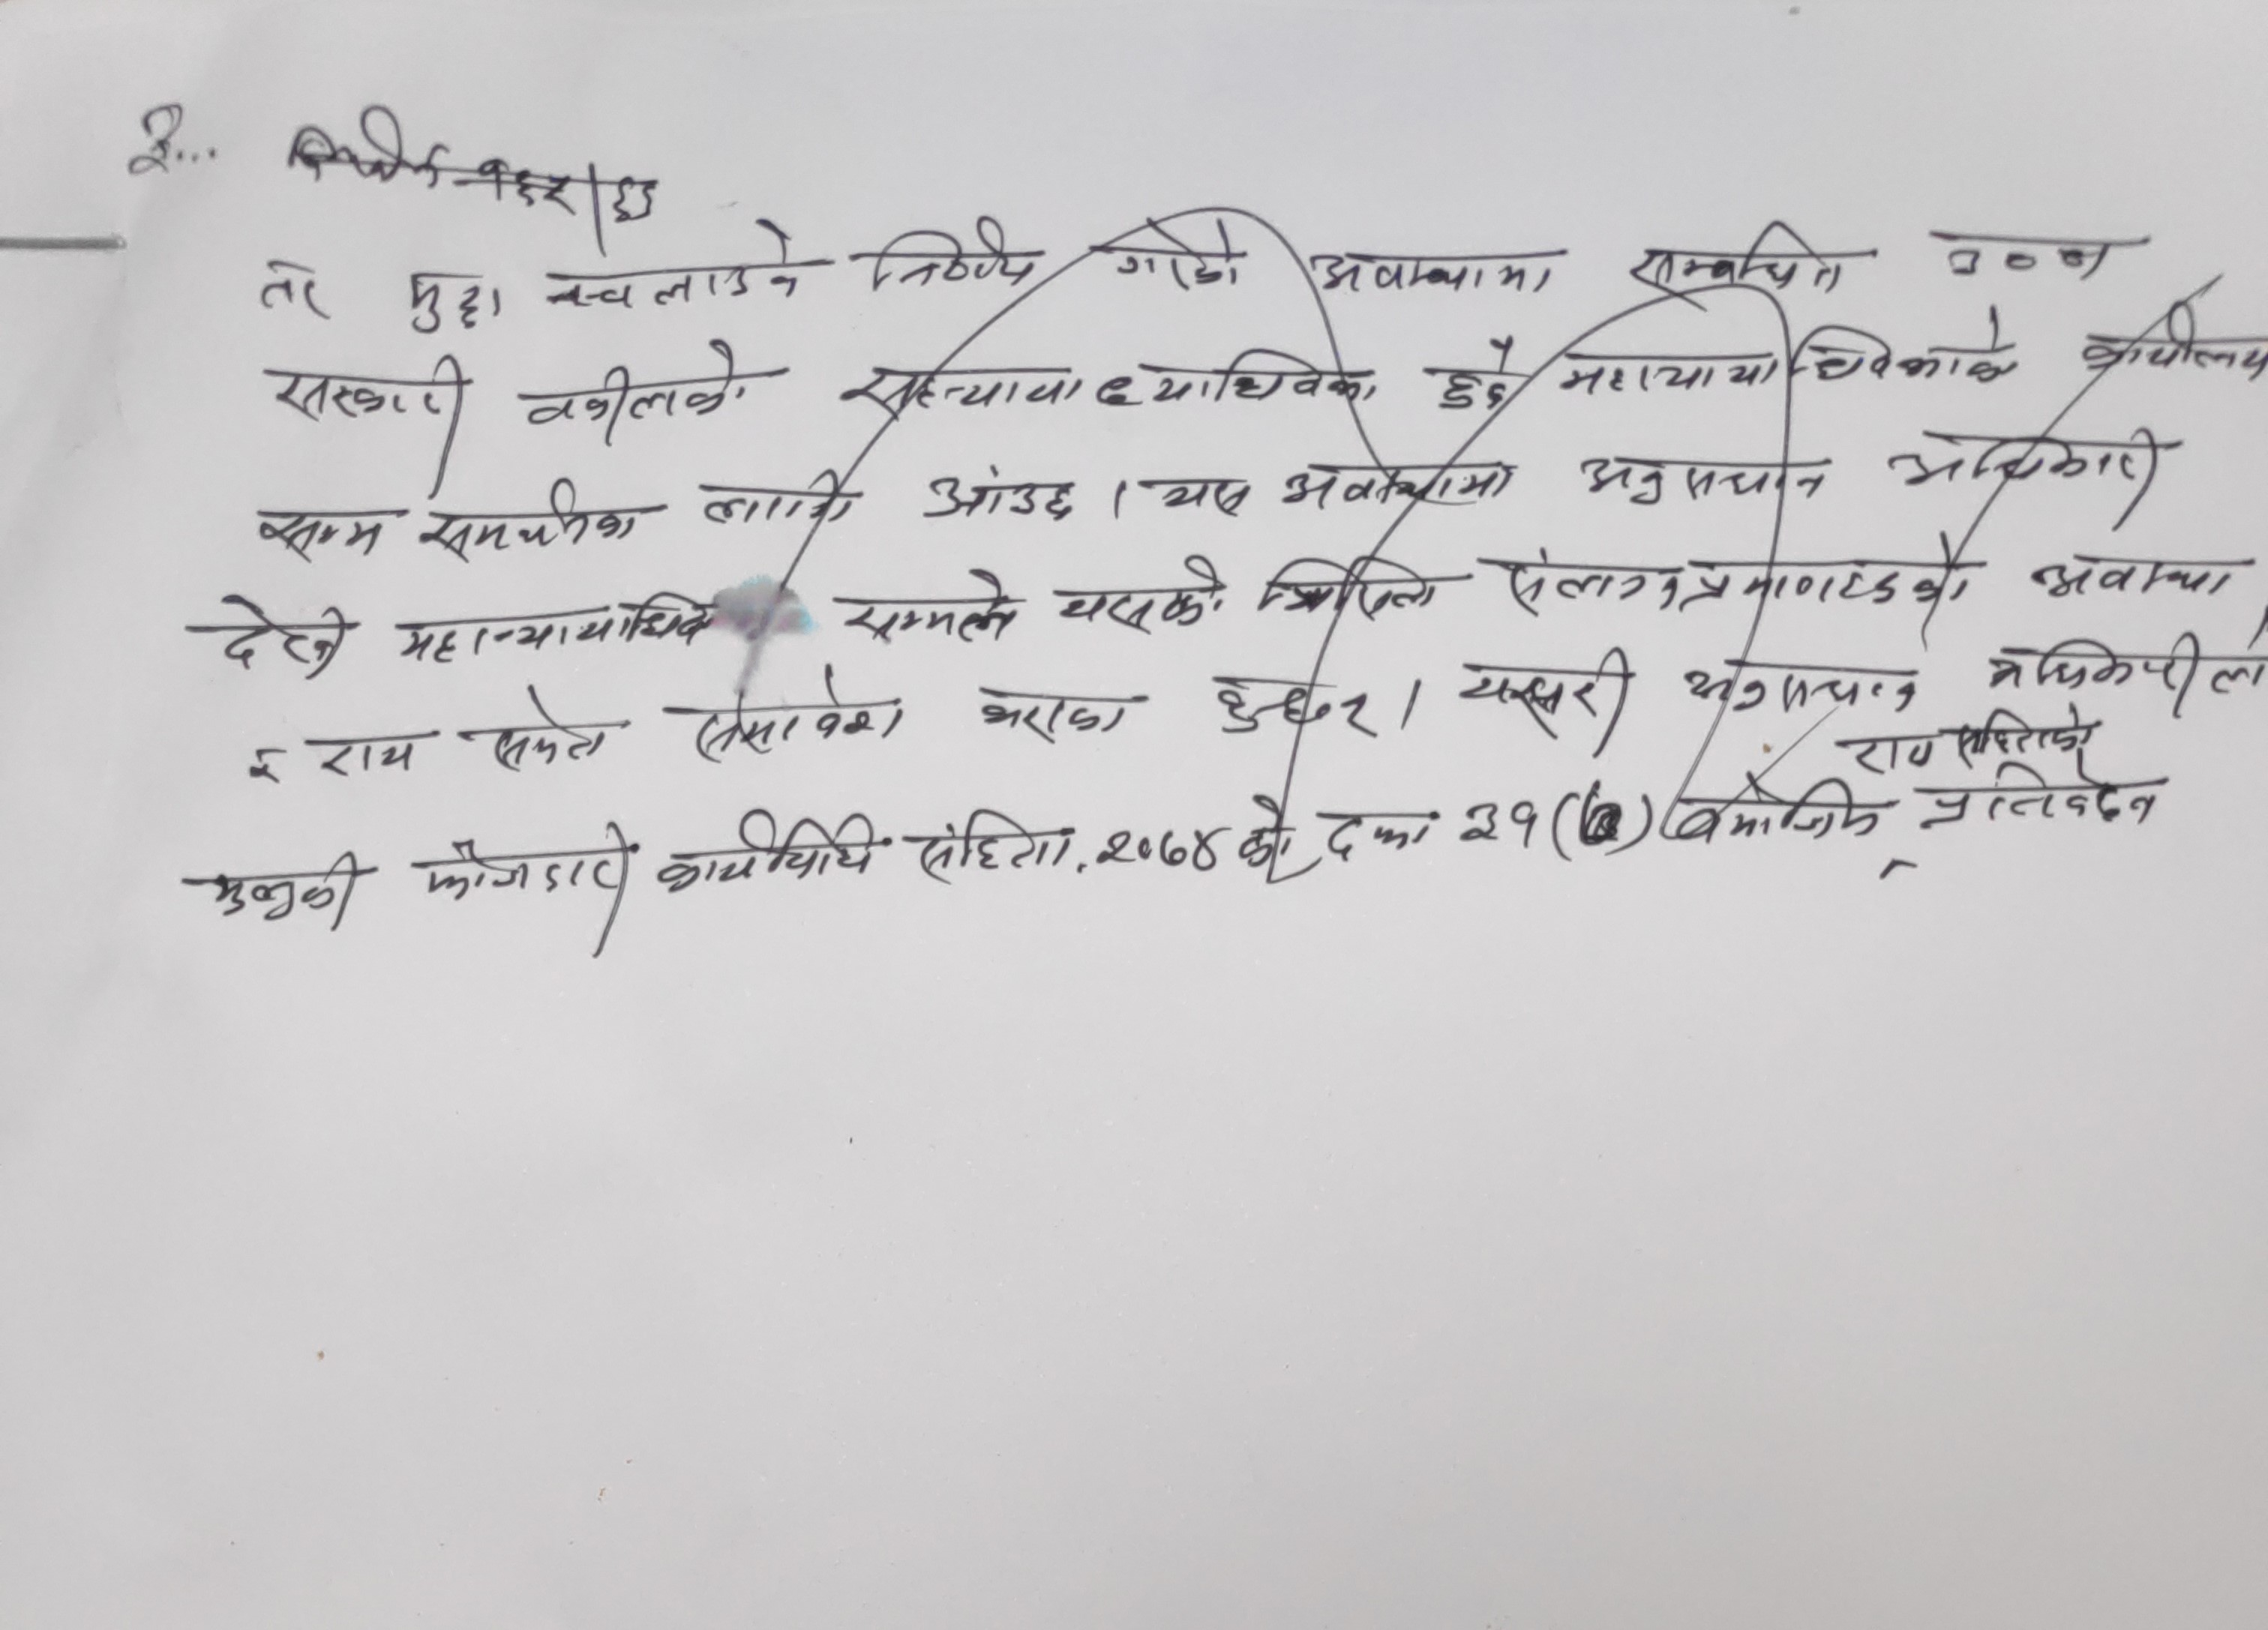text: (1483, 523, 1972, 613), (424, 820, 632, 958), (521, 333, 754, 447), (544, 213, 808, 313), (657, 664, 910, 764), (396, 588, 718, 664), (261, 350, 475, 461), (1625, 215, 1858, 312), (1879, 428, 2161, 507), (655, 806, 882, 901), (1988, 623, 2268, 697), (410, 474, 639, 562), (1446, 648, 1636, 750), (1798, 305, 2020, 389), (1925, 760, 2166, 838), (1095, 349, 1377, 414), (838, 354, 1086, 422), (842, 562, 1025, 653), (1581, 445, 1830, 510), (1048, 547, 1236, 632), (1308, 241, 1569, 299), (190, 591, 349, 685), (1914, 217, 2136, 282), (192, 850, 365, 933), (861, 215, 1035, 294), (1215, 669, 1382, 750), (470, 685, 613, 773), (917, 804, 1069, 887), (1558, 340, 1778, 396), (2020, 547, 2252, 600), (970, 683, 1139, 750), (1104, 211, 1250, 287), (689, 463, 856, 528), (923, 463, 1072, 532), (254, 495, 386, 562), (400, 264, 505, 340), (306, 723, 426, 785), (1094, 826, 1226, 877), (1433, 331, 1507, 417), (255, 257, 335, 331), (1143, 470, 1254, 518)
